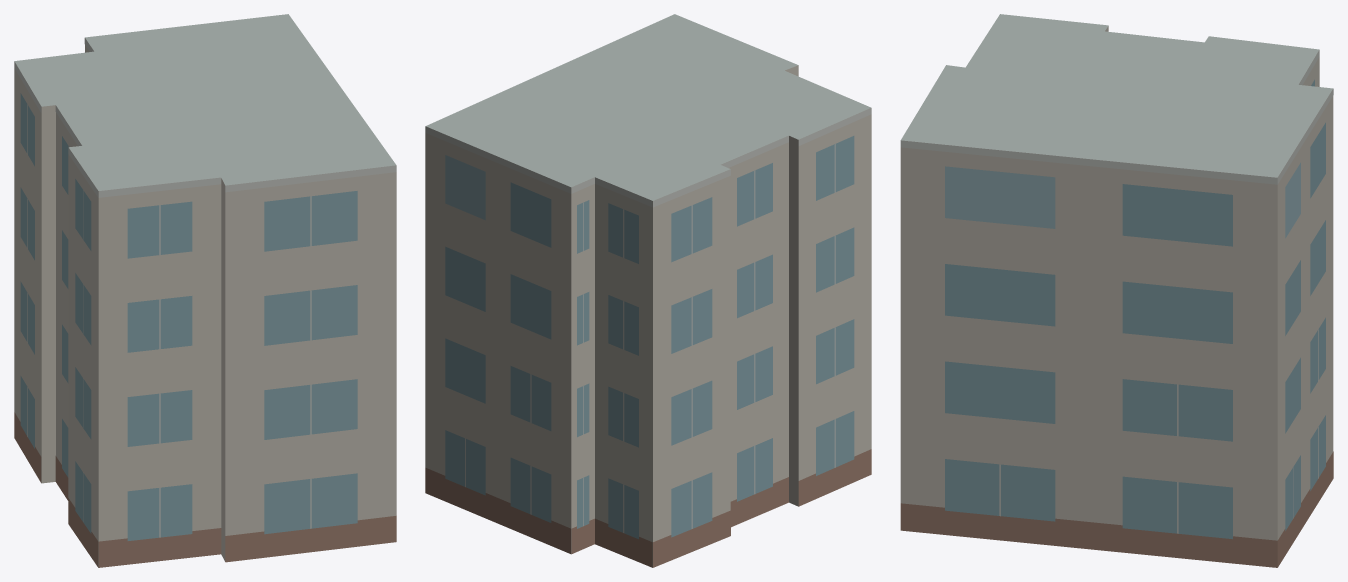
Rendered from survey-upis-32821415.glb.
3 views of the same model, side by side, from view 1: azimuth 30°, elevation 25°; view 2: azimuth 150°, elevation 25°; view 3: azimuth 270°, elevation 25° (orthographic). The views are drawn at different scales.
Visible parts, largest first — view 1: survey-upis-32821415.tmp; view 2: survey-upis-32821415.tmp; view 3: survey-upis-32821415.tmp.
Part boxes in pixels (x1,y1,x2,y2): survey-upis-32821415.tmp: [14, 14, 396, 567]; survey-upis-32821415.tmp: [425, 14, 871, 567]; survey-upis-32821415.tmp: [900, 14, 1333, 567].
Size of the model in its own units: 12.25 by 13.6 by 13.68.
